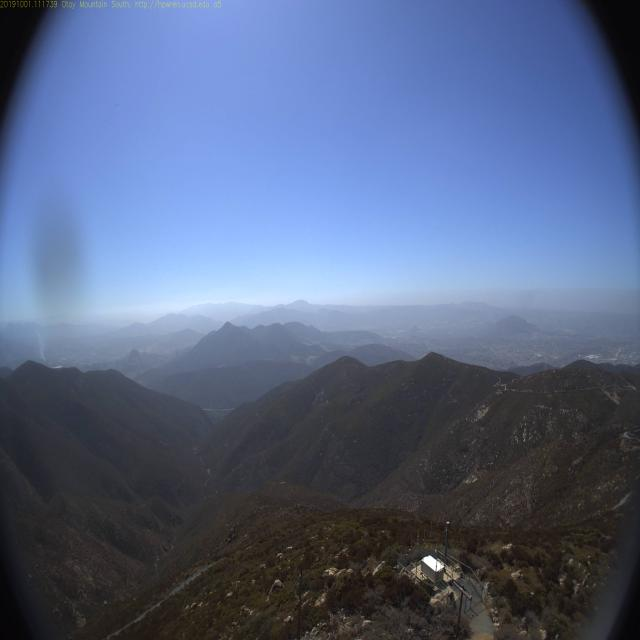smoke: (30, 324, 54, 368)
